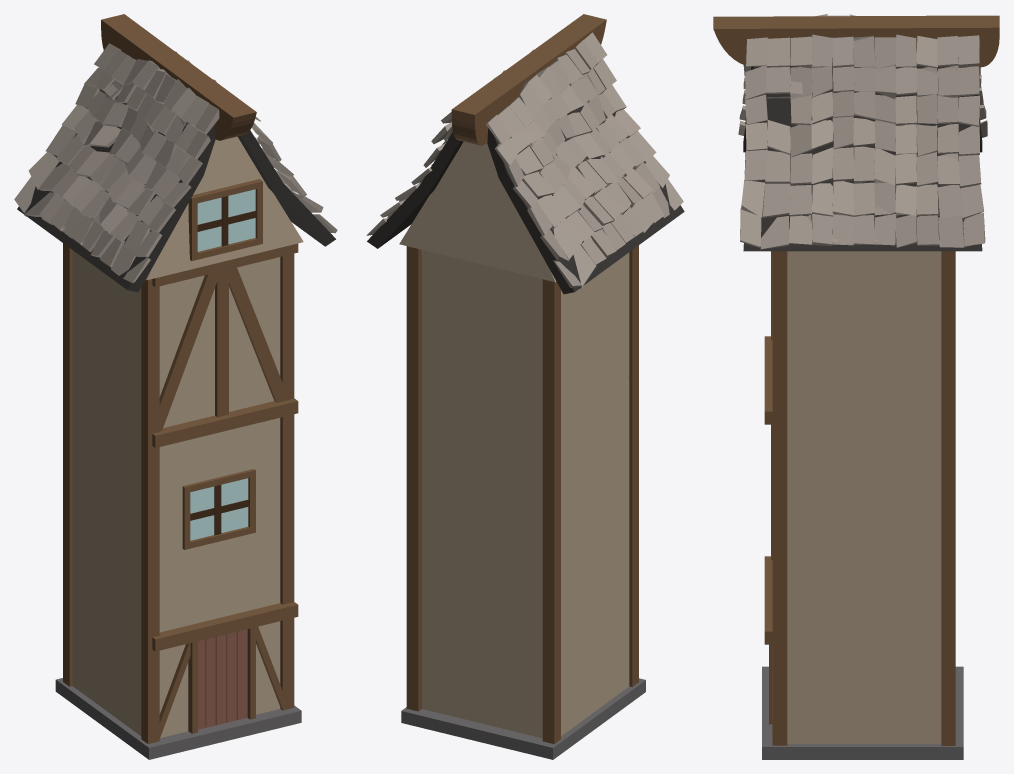
Rendered from Tower_1.fbx.
3 renders of one model, left to right at view 1: azimuth 30°, elevation 25°; view 2: azimuth 150°, elevation 25°; view 3: azimuth 270°, elevation 25°, orthographic. The views are drawn at different scales.
Visible parts, largest first — view 1: Cube.125; view 2: Cube.125; view 3: Cube.125.
Part boxes in pixels (box(x1,y1,x2,y2)): Cube.125: box(14, 14, 337, 759); Cube.125: box(366, 14, 684, 759); Cube.125: box(713, 14, 999, 759).
Bounding box in the file's own units: 656 × 1930 × 719.
